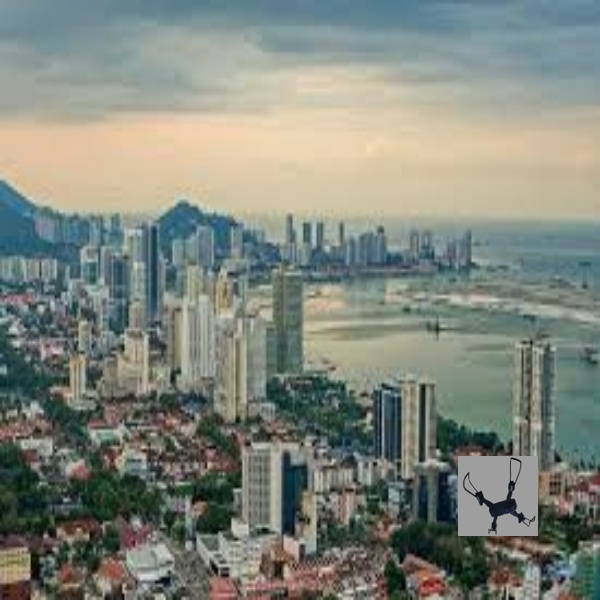drone: (459, 457, 538, 533)
